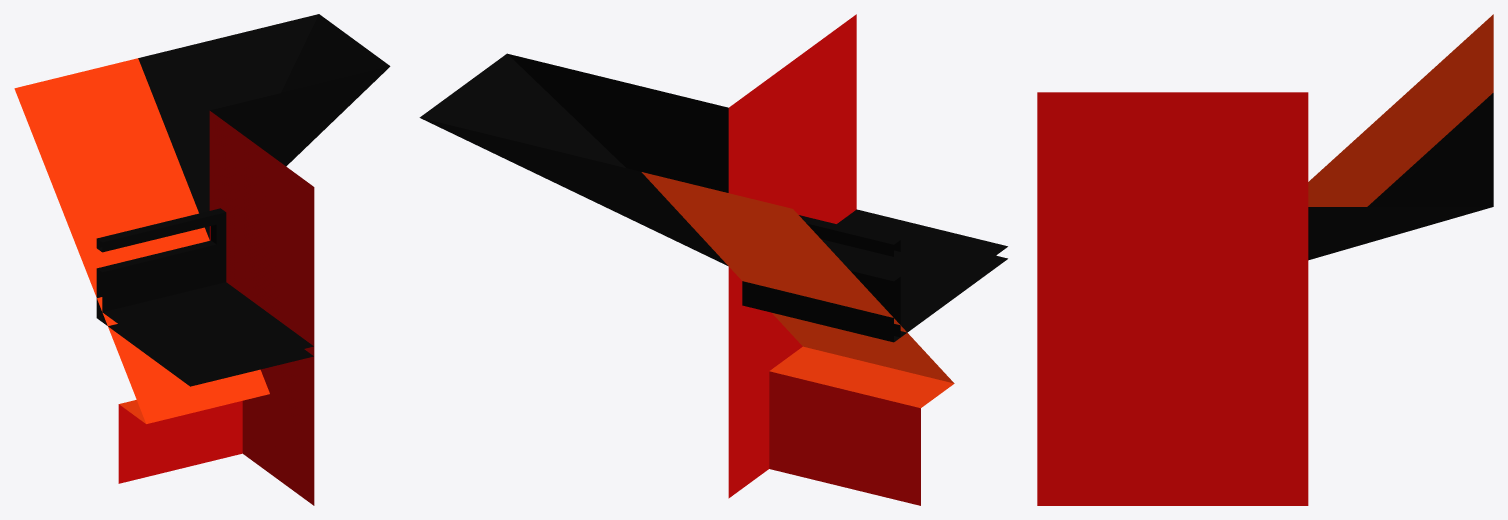
3 renders of one model, left to right at view 1: azimuth 30°, elevation 25°; view 2: azimuth 150°, elevation 25°; view 3: azimuth 270°, elevation 25°, orthographic. The views are drawn at different scales.
Visible parts, largest first — view 1: None_S_A_E_A_S_P_E_E_None1; view 2: None_S_A_E_A_S_P_E_E_None1; view 3: None_S_A_E_A_S_P_E_E_None1.
Boxes of the visible parts, <box> form: None_S_A_E_A_S_P_E_E_None1: <box>14,14,390,505</box>; None_S_A_E_A_S_P_E_E_None1: <box>419,14,1007,505</box>; None_S_A_E_A_S_P_E_E_None1: <box>1037,14,1493,505</box>.
Size of the model in its own units: 100 by 100 by 100.
